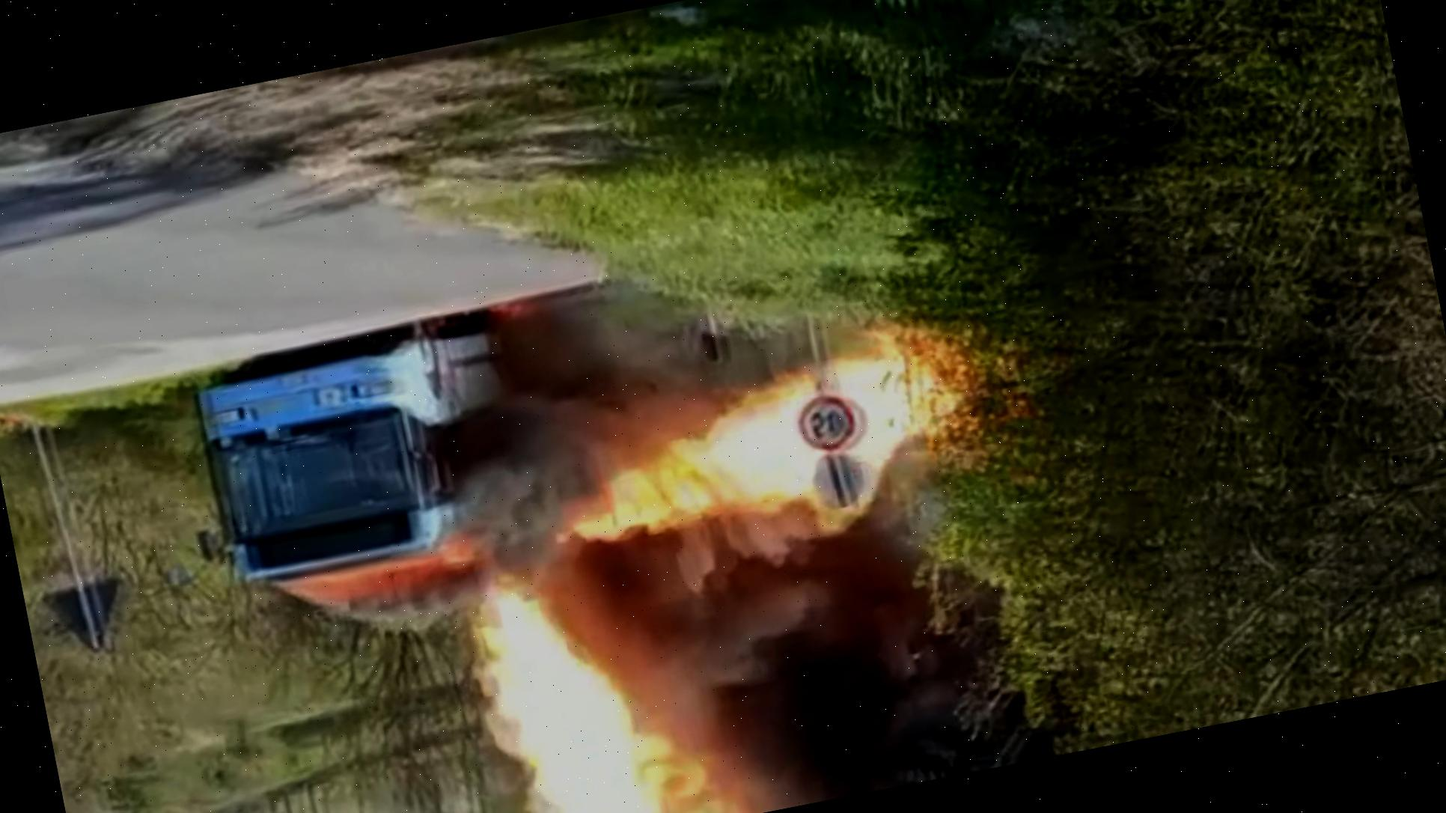fire: (460, 310, 992, 585)
smoke: (606, 470, 1153, 813)
